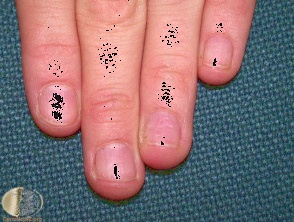Nail_psoriasis: (141, 105, 187, 150)
